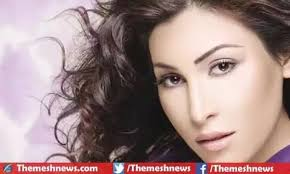middle_eastern_Female: (138, 10, 286, 152)
